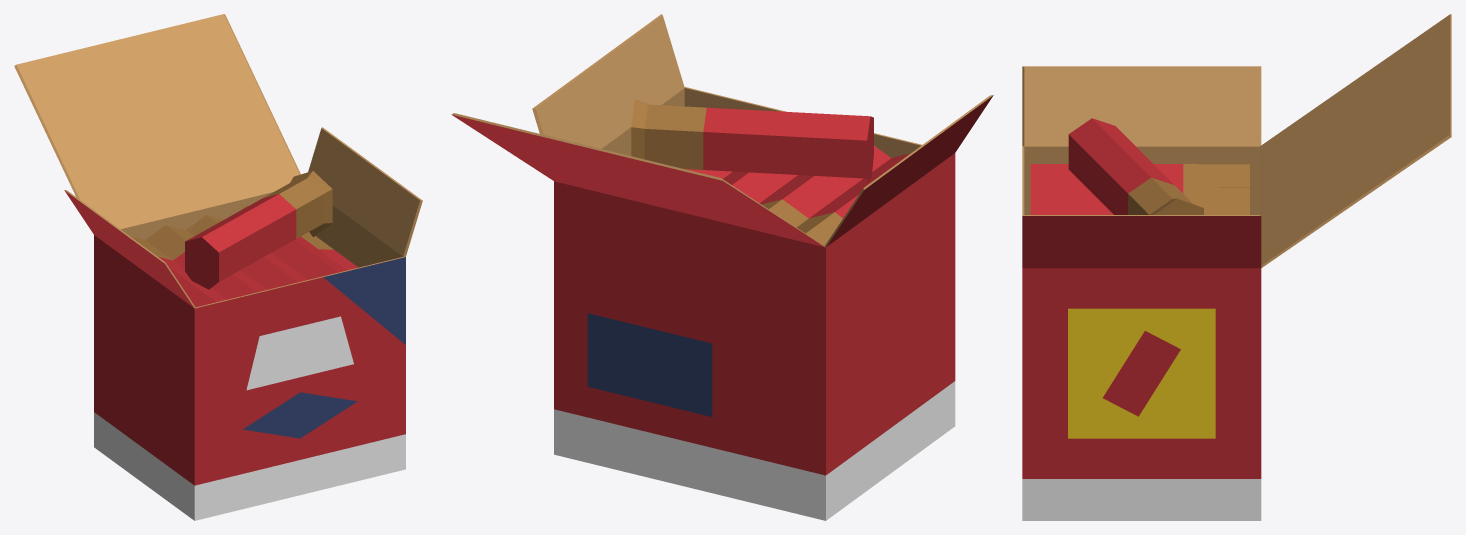
The model's file is weapons_ammo-shotgun-open.fbx.
3 renders of one model, left to right at view 1: azimuth 30°, elevation 25°; view 2: azimuth 150°, elevation 25°; view 3: azimuth 270°, elevation 25°, orthographic. The views are drawn at different scales.
Visible parts, largest first — view 1: weapons_ammo_shotgun_open; view 2: weapons_ammo_shotgun_open; view 3: weapons_ammo_shotgun_open.
Boxes of the visible parts, x1=… form: weapons_ammo_shotgun_open: x1=14, y1=14, x2=422, y2=520; weapons_ammo_shotgun_open: x1=451, y1=14, x2=993, y2=520; weapons_ammo_shotgun_open: x1=1022, y1=14, x2=1451, y2=520.
Size of the model in its own units: 165 by 198 by 200.
